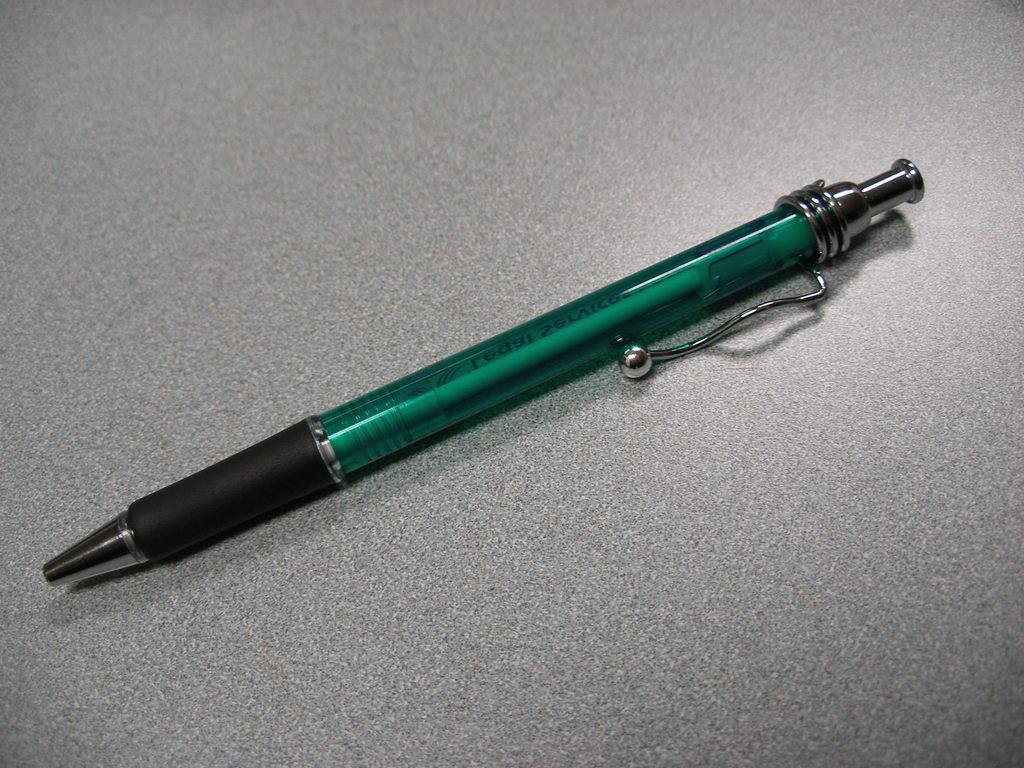pen: (42, 143, 927, 579)
